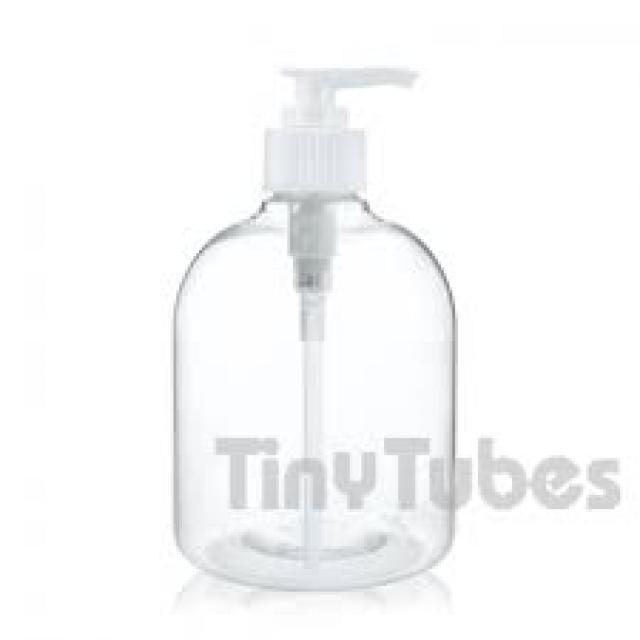Plastic: (180, 59, 460, 592)
